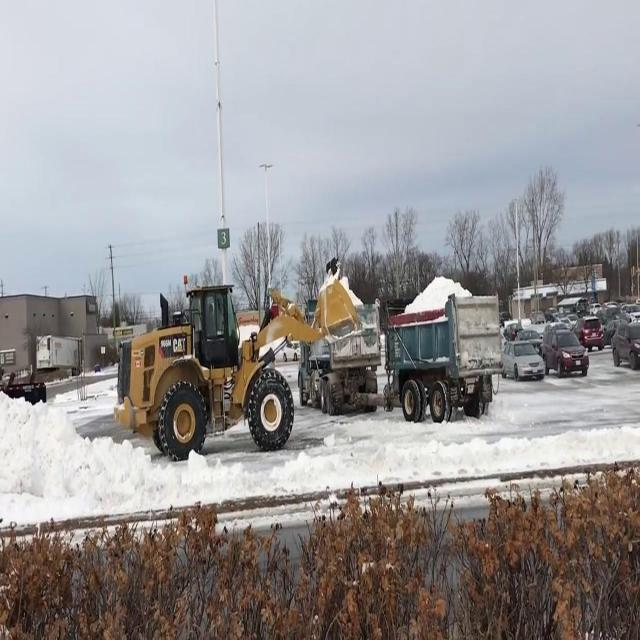Dump Truck: (378, 276, 500, 422), (299, 281, 377, 413)
Loader: (112, 270, 358, 465)
